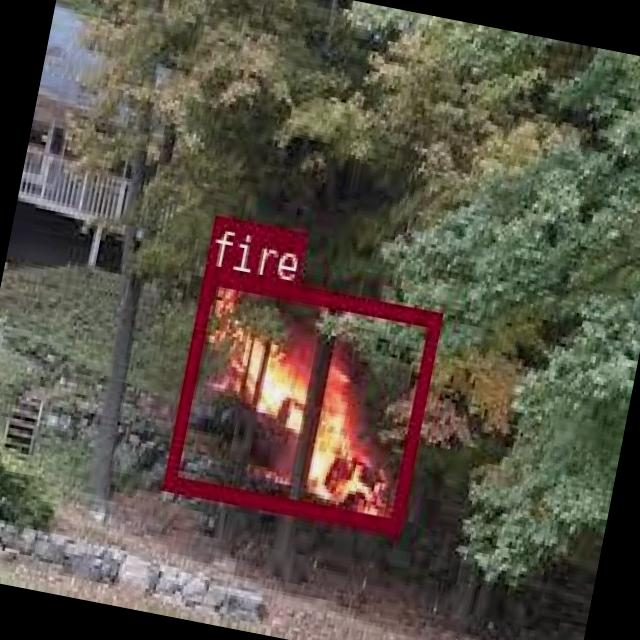fire: (162, 264, 440, 534)
